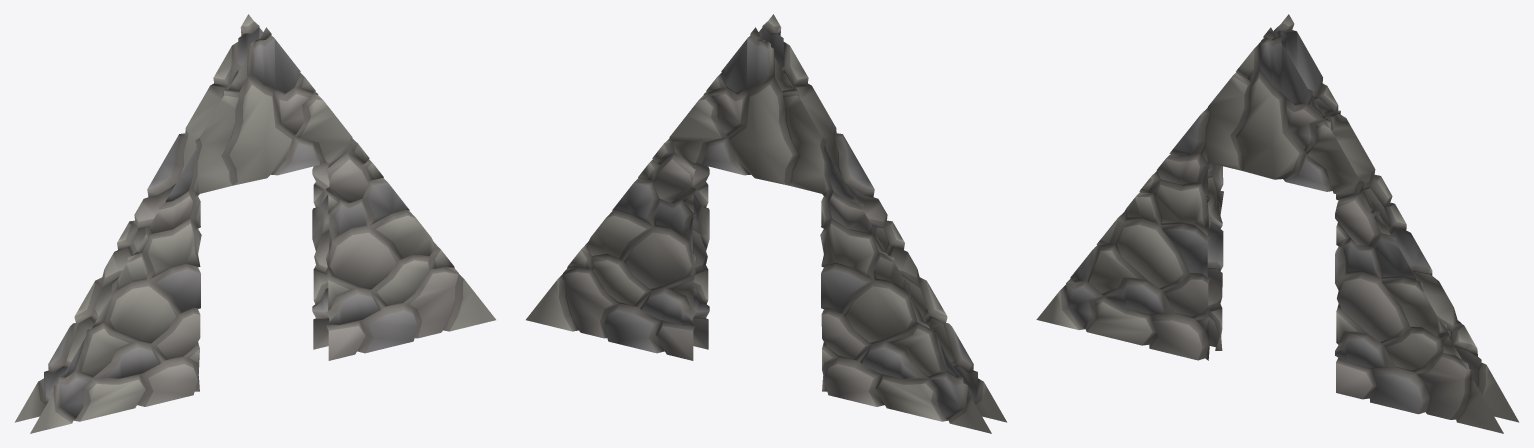
Rendered from rpgpp_ag_roof_end_01_6x5_wall_door_03a.fbx.
3 renders of one model, left to right at view 1: azimuth 30°, elevation 25°; view 2: azimuth 150°, elevation 25°; view 3: azimuth 330°, elevation 25°, orthographic.
Parts seen in each view (by area): view 1: rpgpp_ag_roof_end_01_6x5_wall_door_03a; view 2: rpgpp_ag_roof_end_01_6x5_wall_door_03a; view 3: rpgpp_ag_roof_end_01_6x5_wall_door_03a.
Part boxes in pixels (x1,y1,x2,y2): rpgpp_ag_roof_end_01_6x5_wall_door_03a: (14,14,495,433); rpgpp_ag_roof_end_01_6x5_wall_door_03a: (526,14,1007,433); rpgpp_ag_roof_end_01_6x5_wall_door_03a: (1036,14,1519,433).
Bounding box in the file's own units: 6.36 × 4.57 × 0.4229.
